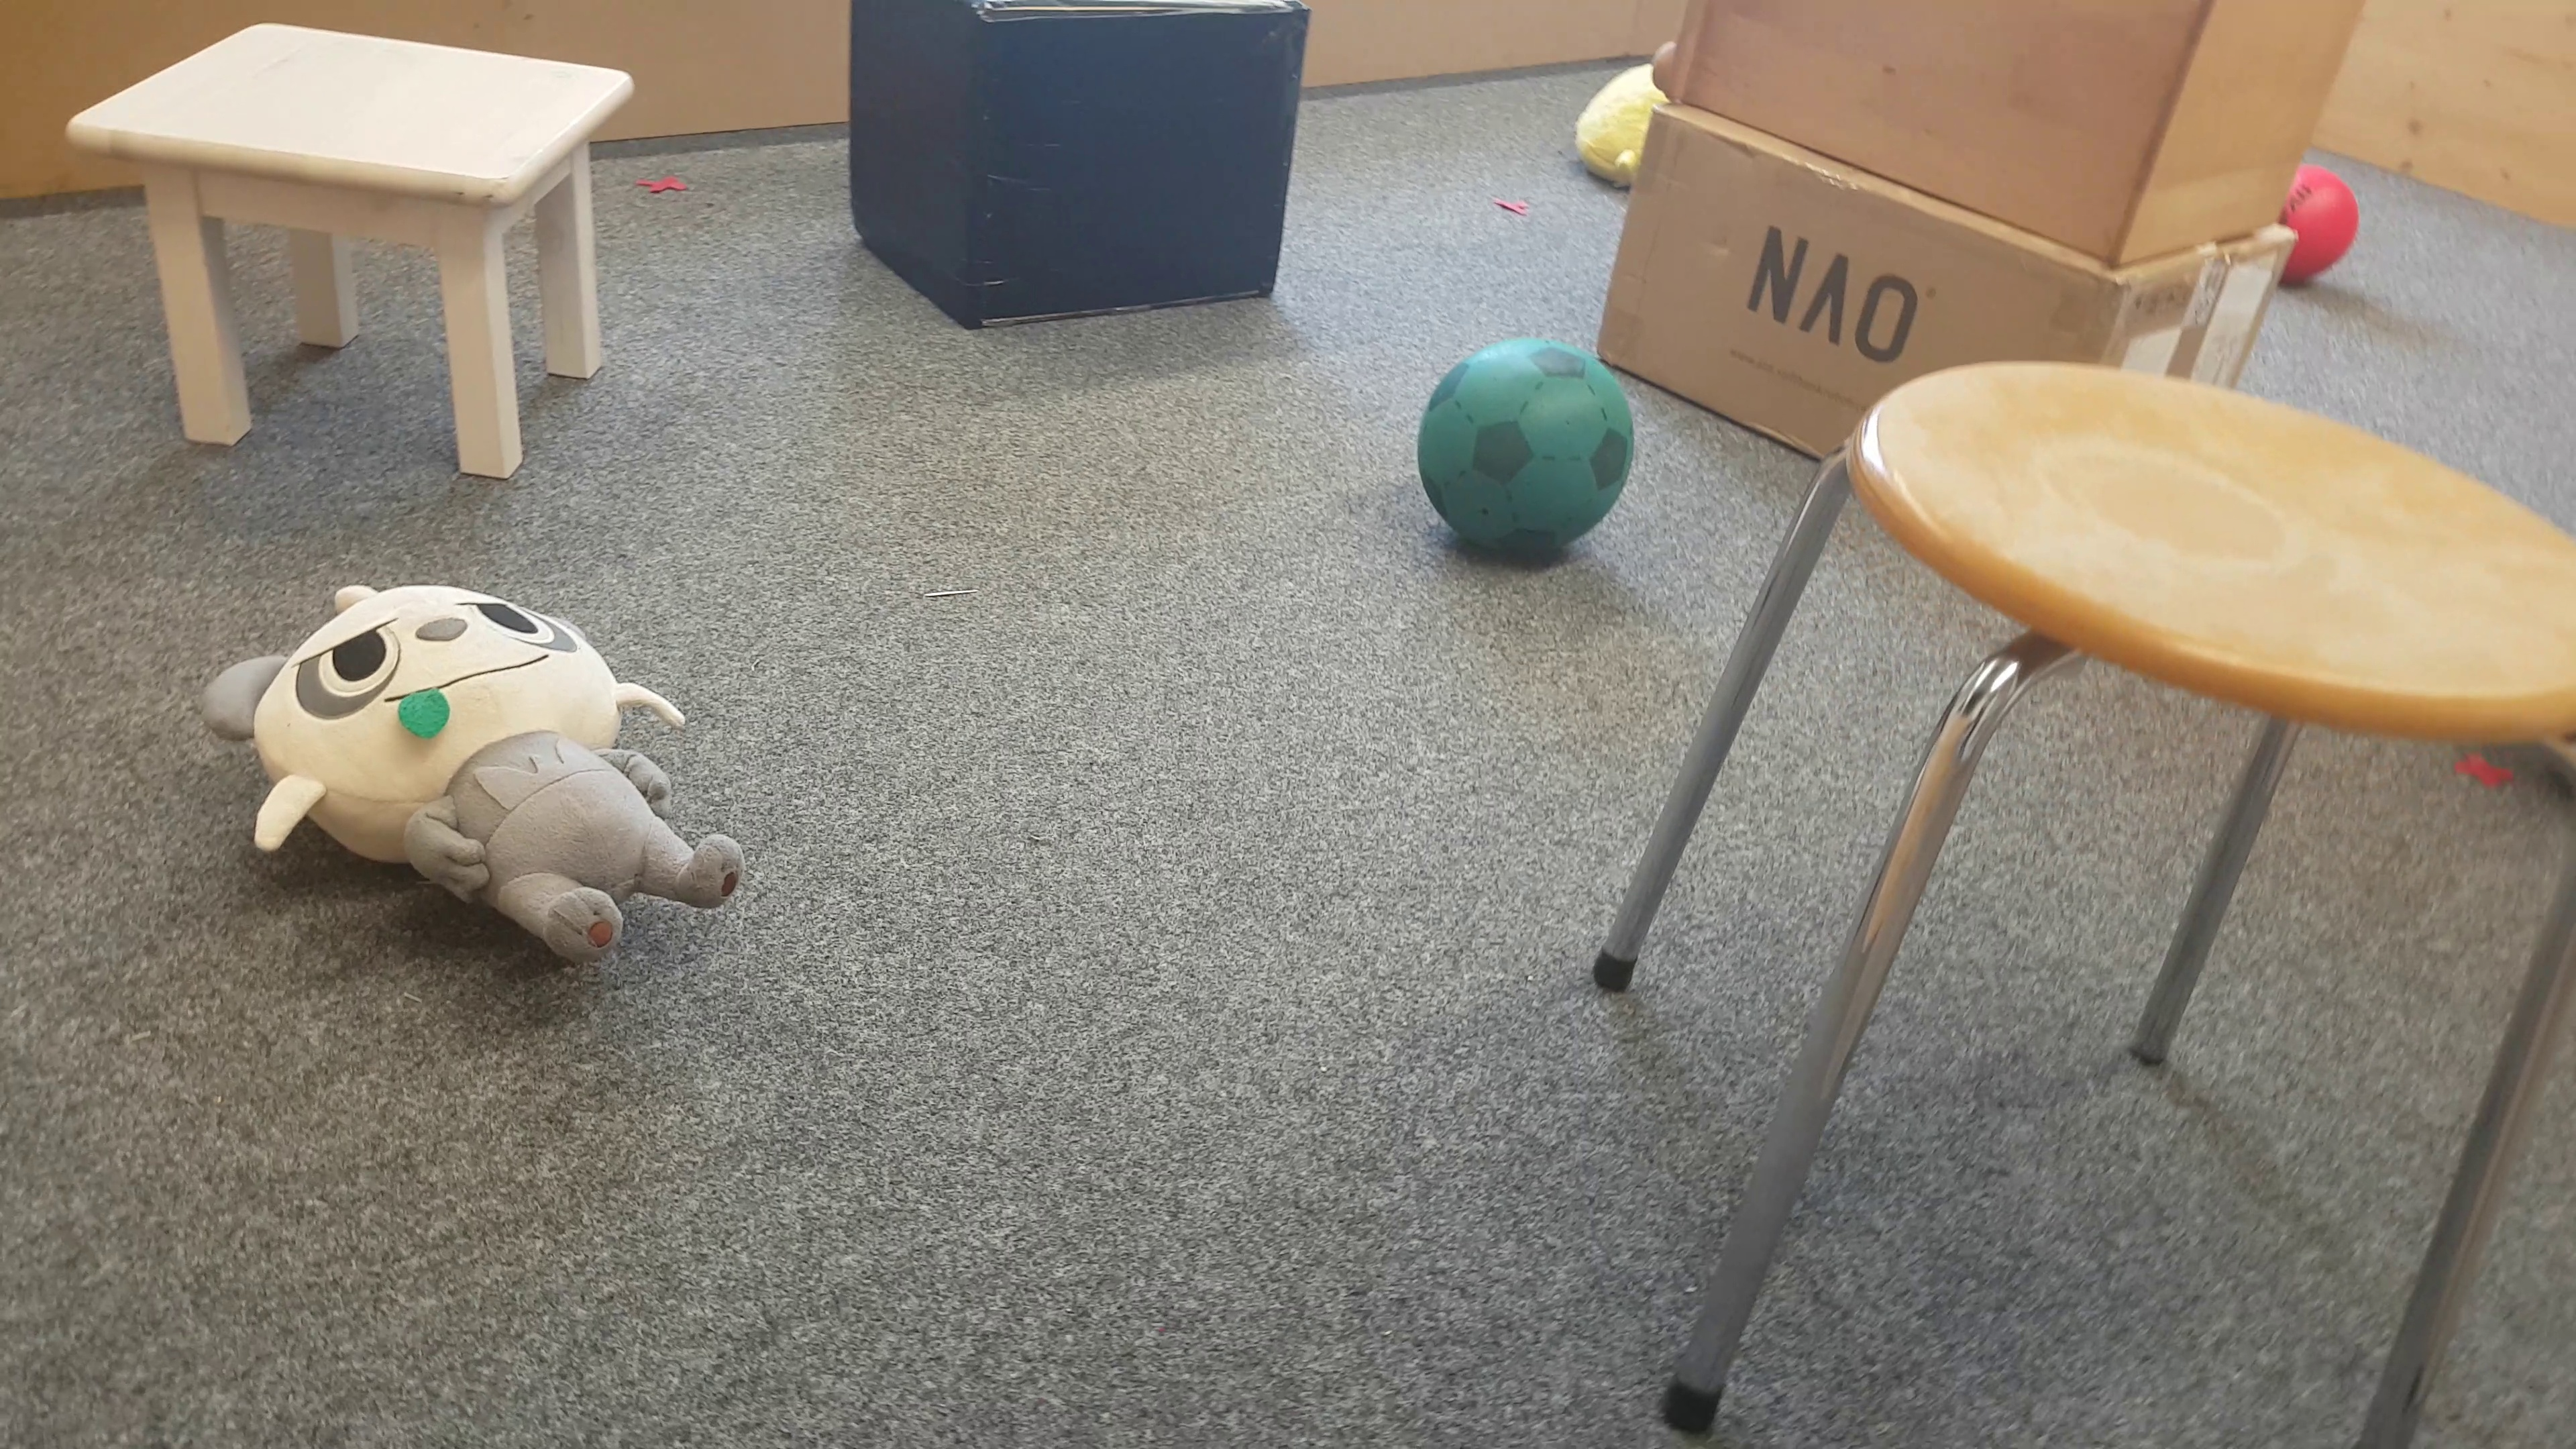grasp: (200, 586, 741, 954), (1578, 65, 1667, 188)
kick: (1419, 340, 1631, 575), (2291, 166, 2357, 292)
